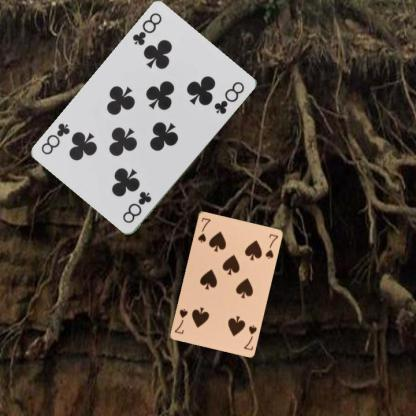7s: (194, 215, 212, 244), (240, 322, 258, 351)
8c: (119, 188, 154, 226), (129, 10, 163, 48)
